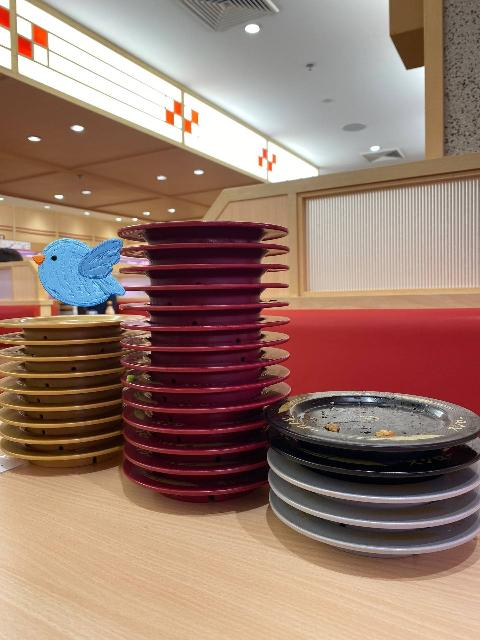janback: (266, 397, 480, 445), (272, 457, 480, 479)
jangold: (0, 332, 122, 352), (4, 381, 114, 403), (1, 319, 130, 336), (2, 349, 120, 365), (14, 417, 103, 438), (8, 430, 96, 450), (18, 452, 94, 475), (0, 372, 114, 385), (9, 399, 99, 415)
janred: (104, 483, 259, 515), (123, 431, 246, 464), (130, 372, 259, 403), (119, 213, 277, 238), (118, 231, 280, 255), (130, 339, 291, 361), (129, 273, 290, 294), (141, 358, 271, 384), (131, 419, 262, 444), (132, 461, 248, 489), (136, 320, 272, 342), (121, 401, 260, 422), (128, 259, 287, 275), (139, 301, 287, 315)
janwhite: (272, 492, 464, 532), (296, 529, 473, 563), (277, 482, 480, 504)
